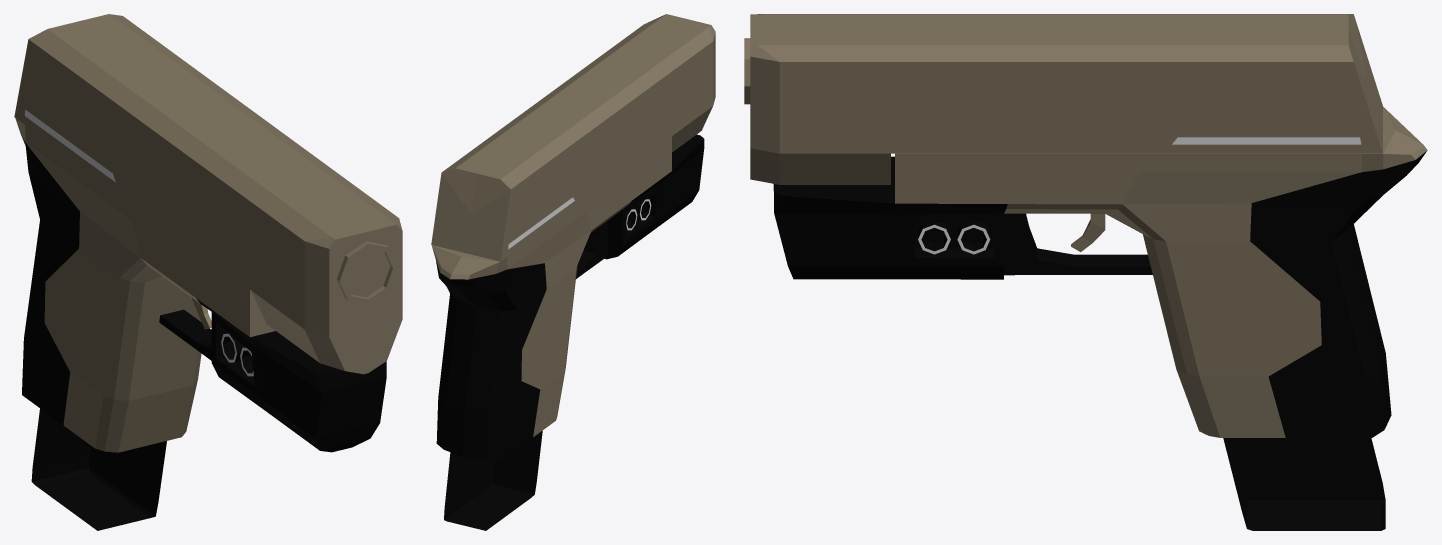
The model's file is pistolUpgradedSingle.fbx.
3 views of the same model, side by side, from view 1: azimuth 30°, elevation 25°; view 2: azimuth 150°, elevation 25°; view 3: azimuth 270°, elevation 25° (orthographic). The views are drawn at different scales.
Visible parts, largest first — view 1: Body.003; view 2: Body.003; view 3: Body.003.
Boxes of the visible parts, x1=… form: Body.003: x1=14, y1=14, x2=402, y2=530; Body.003: x1=431, y1=14, x2=715, y2=530; Body.003: x1=744, y1=14, x2=1427, y2=530.
Size of the model in its own units: 0.3335 by 1.58 by 2.01.
